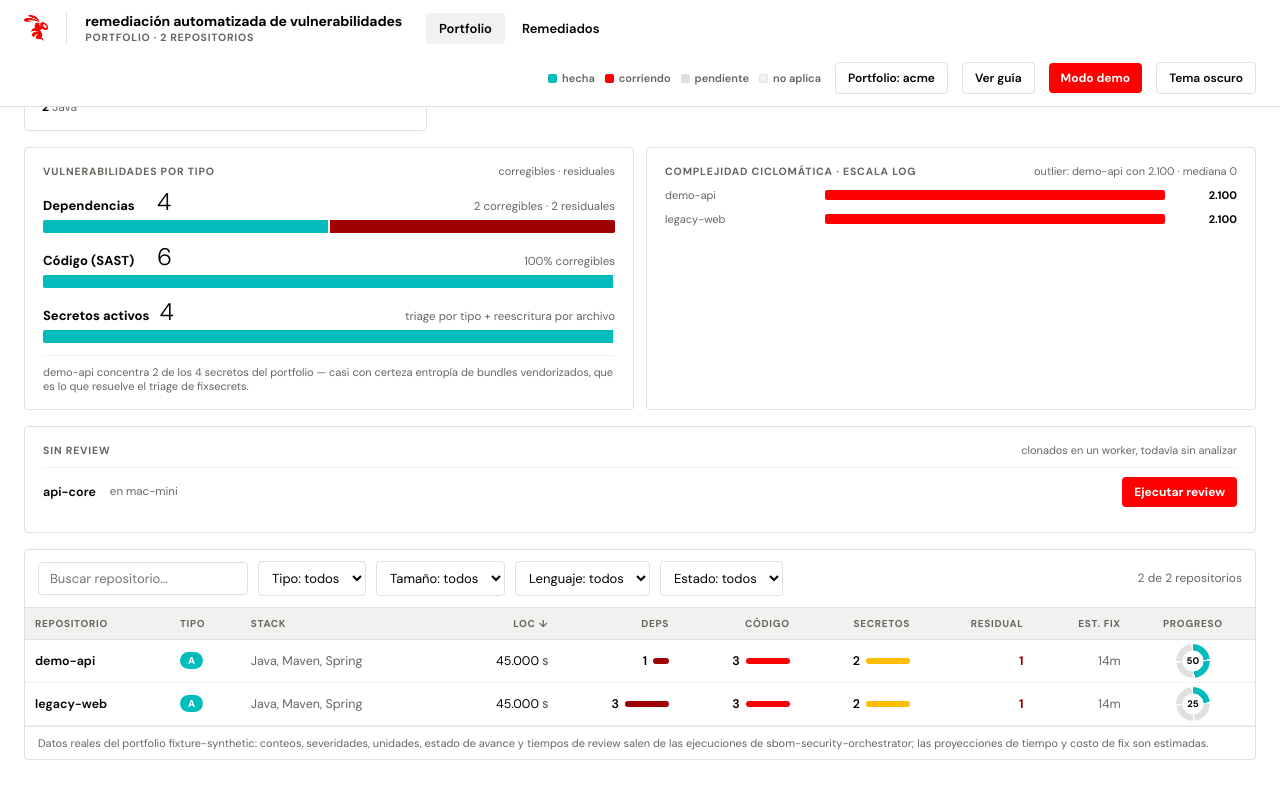
Test: disparo del review › un fallo muestra el motivo y vuelve a ofrecer el review
This screenshot has width=1280, height=800.
(page scrolled)
Expected: the field with placeholder "Buscar repositorio…" is shown, [38,562,248,595]
Click the button "Ejecutar review". click: (1180, 492)
box: [1122,477,1237,507]
Wait 3000 ms
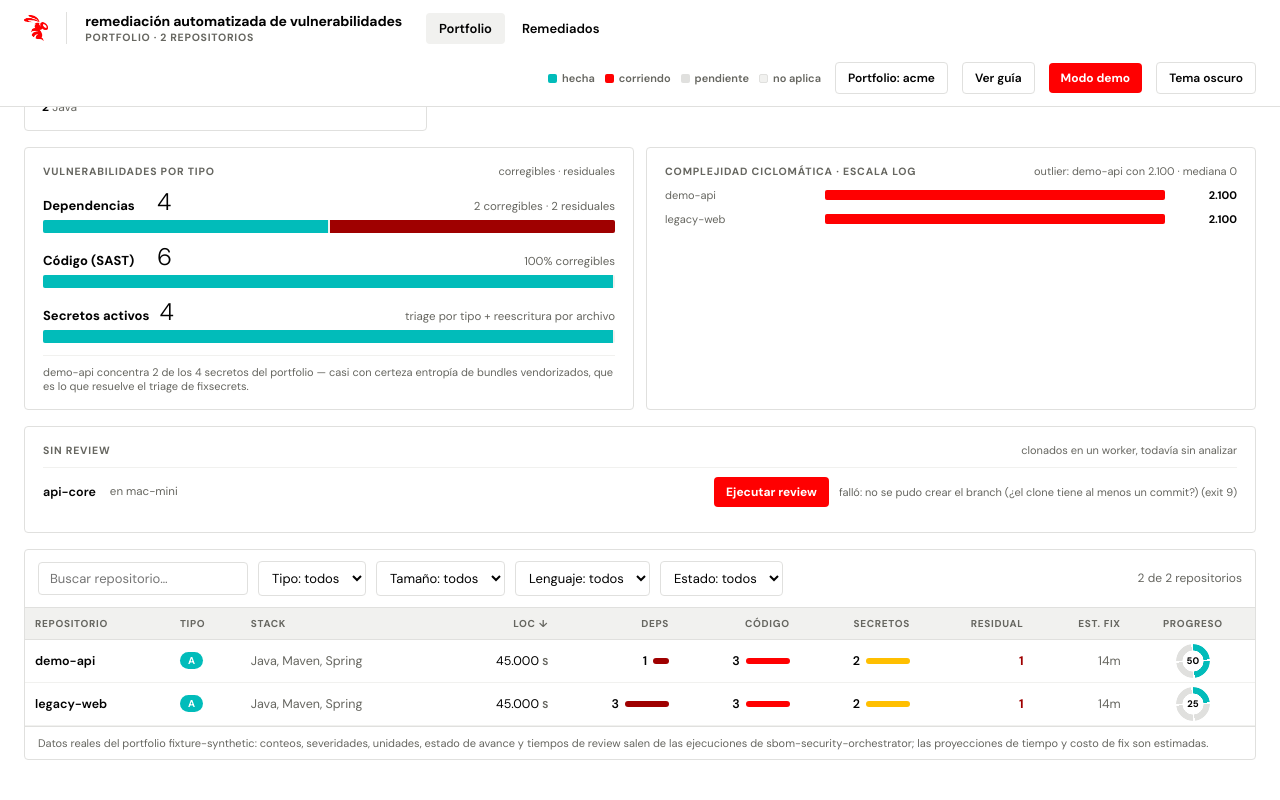
Expected: the button "Ejecutar review" is enabled, [714,477,829,507]
Expected: the text "el clone tiene al menos un commit" is shown, [839,485,1237,499]
